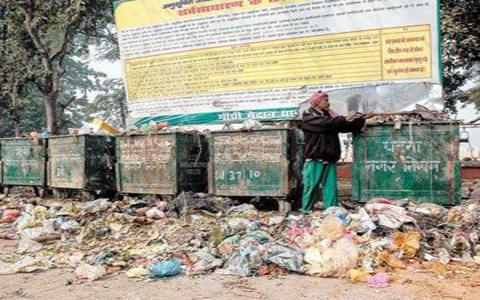overflowing garbage: (354, 110, 463, 283), (203, 122, 298, 276), (114, 129, 198, 272), (48, 135, 104, 262)
